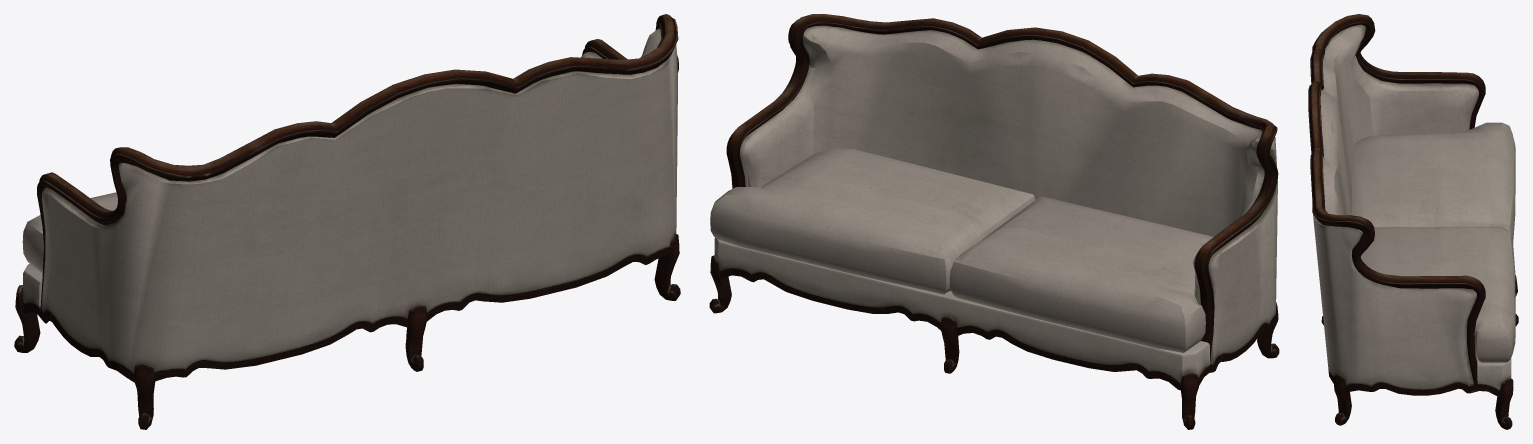
File: sofa-victorian-a.glb
3 views of the same model, side by side, from view 1: azimuth 30°, elevation 25°; view 2: azimuth 150°, elevation 25°; view 3: azimuth 270°, elevation 25° (orthographic). The views are drawn at different scales.
Visible parts, largest first — view 1: sofa-victorian-a; view 2: sofa-victorian-a; view 3: sofa-victorian-a.
Part boxes in pixels (x1,y1,x2,y2): sofa-victorian-a: (14, 14, 680, 429); sofa-victorian-a: (709, 14, 1279, 429); sofa-victorian-a: (1308, 14, 1518, 429).
Size of the model in its own units: 1.57 by 0.7965 by 0.658.
1 material, 1 textured.
